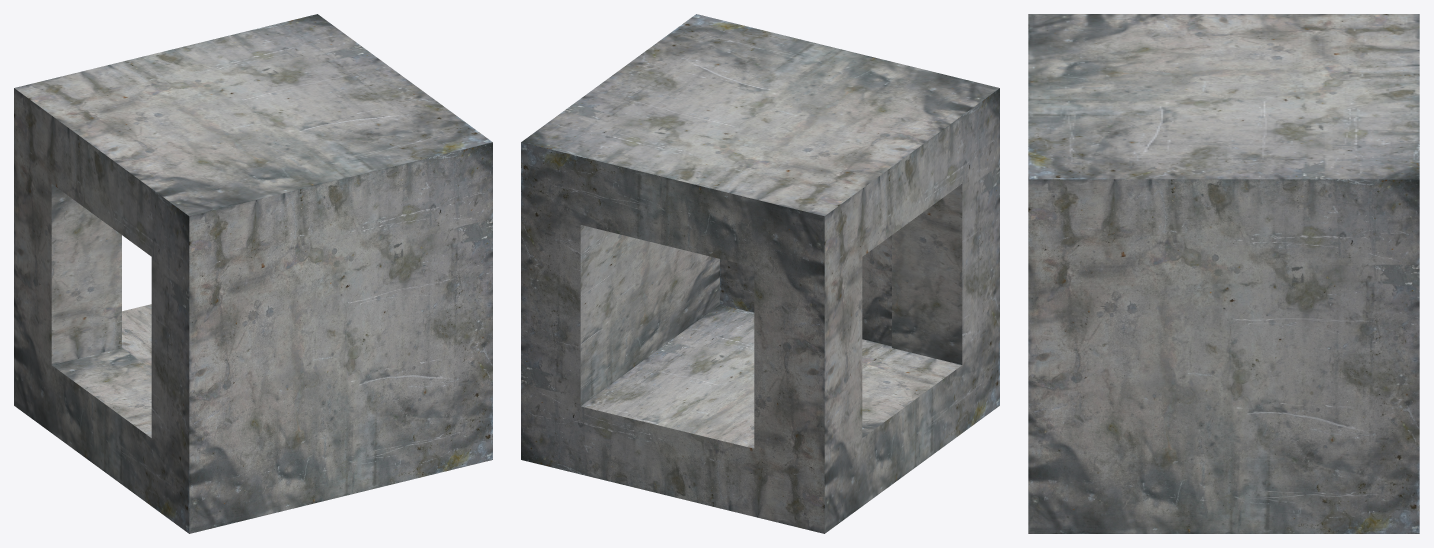
The model's file is Lueftungsschacht_03.fbx.
The picture shows the model from 3 angles, left to right: view 1: azimuth 30°, elevation 25°; view 2: azimuth 150°, elevation 25°; view 3: azimuth 270°, elevation 25°; orthographic projection. The views are drawn at different scales.
Parts seen in each view (by area): view 1: pCube25; view 2: pCube25; view 3: pCube25.
Part boxes in pixels (bbox=[...]): pCube25: bbox=[14, 14, 492, 533]; pCube25: bbox=[521, 14, 999, 533]; pCube25: bbox=[1028, 14, 1419, 533].
Bounding box in the file's own units: 17.5 × 17.5 × 17.5.
1 material, 1 textured.
